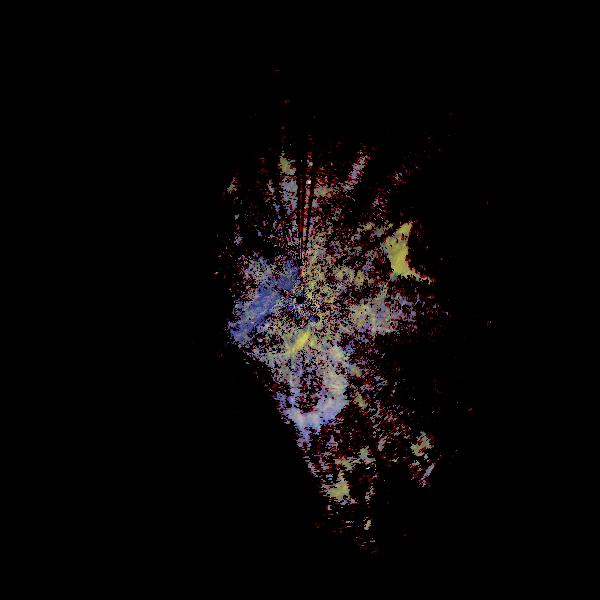roost: (222, 291, 393, 462), (346, 160, 511, 325)
